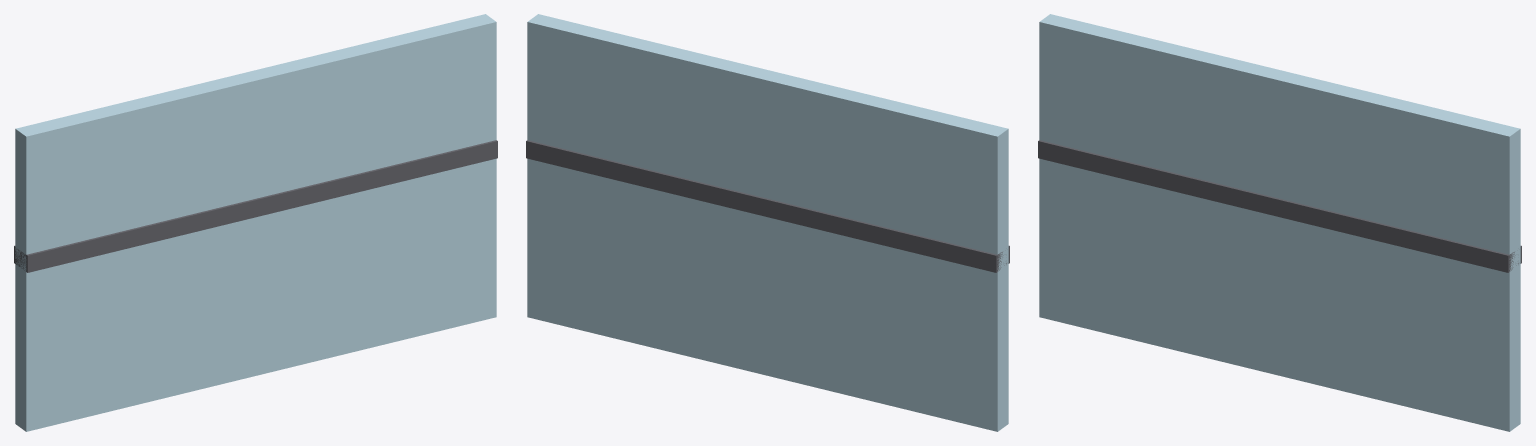
3 renders of one model, left to right at view 1: azimuth 30°, elevation 25°; view 2: azimuth 150°, elevation 25°; view 3: azimuth 330°, elevation 25°, orthographic.
Parts seen in each view (by area): view 1: Puerta; view 2: Puerta; view 3: Puerta.
Part boxes in pixels (x1,y1,x2,y2): Puerta: [14, 14, 497, 431]; Puerta: [526, 14, 1009, 431]; Puerta: [1038, 14, 1521, 431].
Size of the model in its own units: 2 by 1.2 by 0.1.
